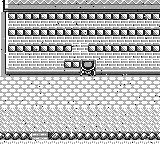main: (81, 61, 95, 76)
no-caminable: (3, 1, 160, 74)
salto: (49, 132, 160, 140), (1, 132, 30, 140)
